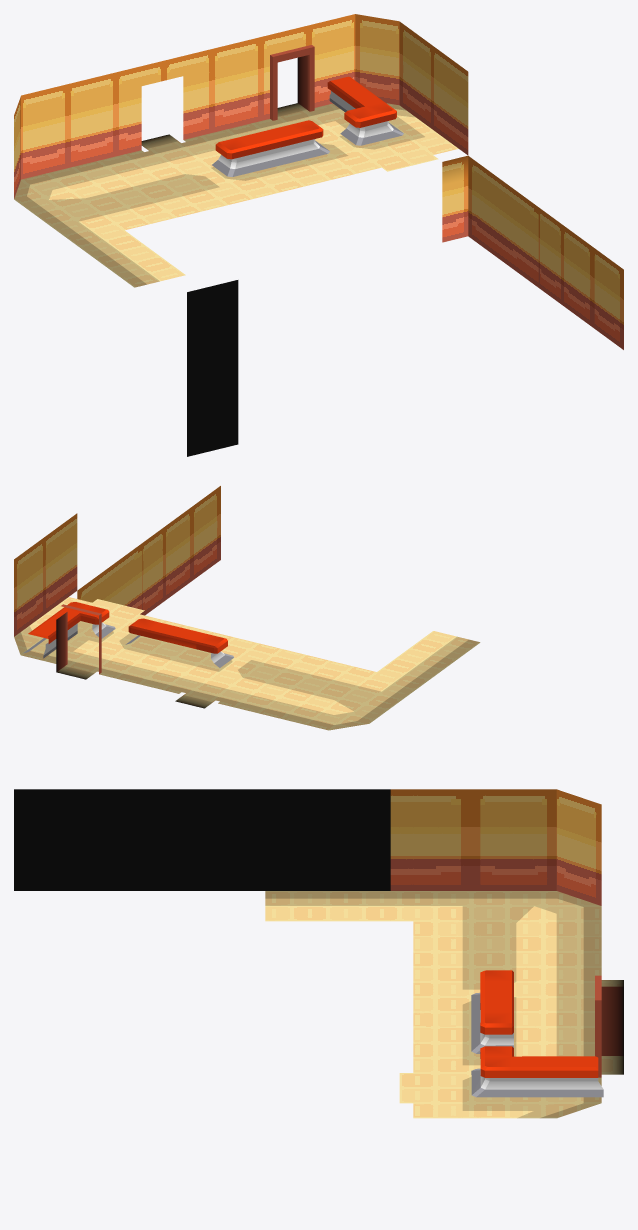
File: hgss-piece-221-mur-mezzanine-est.glb
3 views of the same model, one above another, from view 1: azimuth 30°, elevation 25°; view 2: azimuth 150°, elevation 25°; view 3: azimuth 270°, elevation 25° (orthographic). The views are drawn at different scales.
Bounding box in the file's own units: 17 × 6.12 × 17.
Materials: 6 (6 with a texture image).
